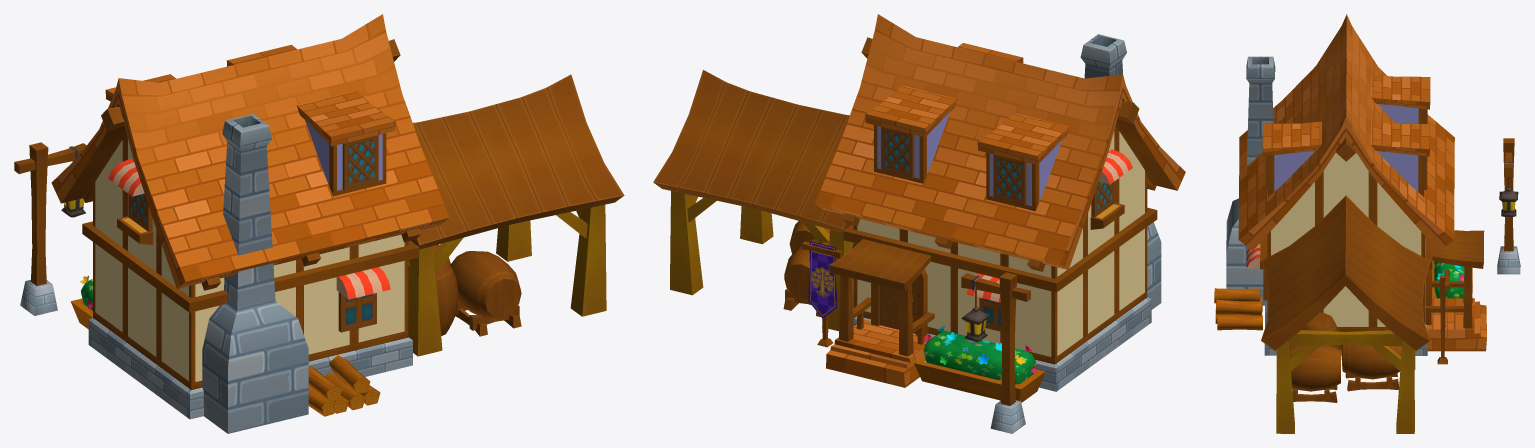
File: HOS0110012.fbx
3 renders of one model, left to right at view 1: azimuth 30°, elevation 25°; view 2: azimuth 150°, elevation 25°; view 3: azimuth 270°, elevation 25°, orthographic. The views are drawn at different scales.
Visible parts, largest first — view 1: smHOS0110012; view 2: smHOS0110012; view 3: smHOS0110012.
Boxes of the visible parts, left/top/right/bottom form: smHOS0110012: left=14, top=14, right=624, bottom=433; smHOS0110012: left=653, top=14, right=1185, bottom=433; smHOS0110012: left=1214, top=14, right=1520, bottom=433.
Bounding box in the file's own units: 1106 × 705 × 791.
1 material, 1 textured.
